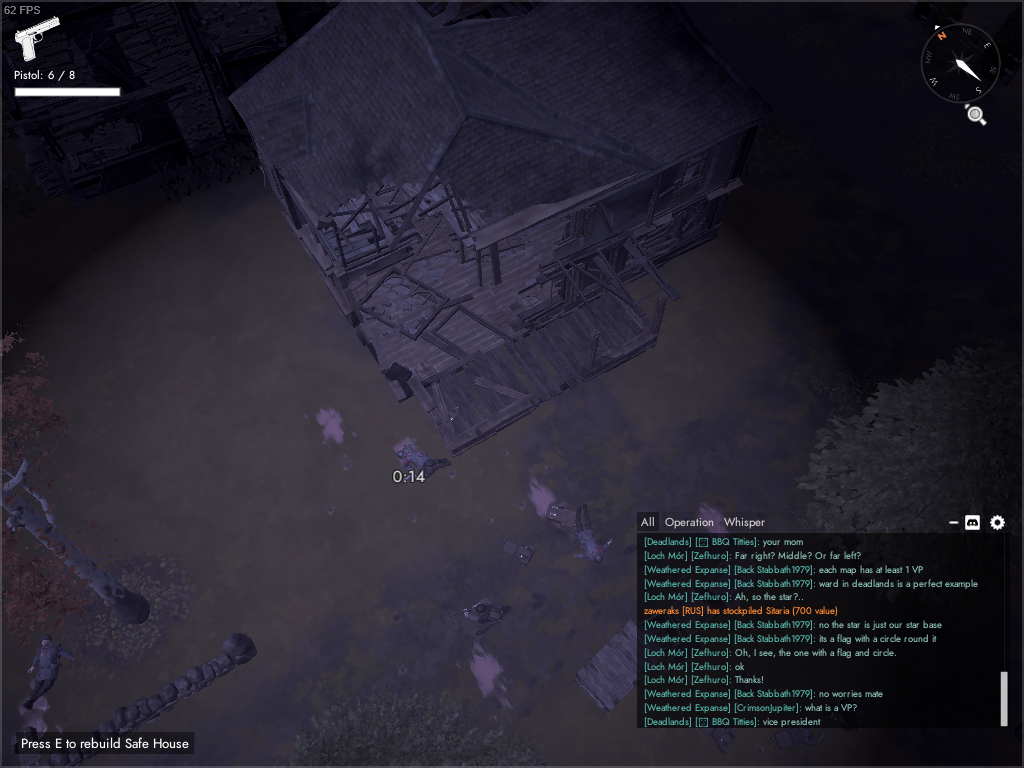backpack: (694, 709, 741, 755), (766, 711, 819, 751), (493, 534, 539, 570), (542, 497, 583, 532)
colonial: (451, 593, 510, 638)
dead_player: (18, 632, 79, 712), (562, 500, 616, 565), (391, 441, 453, 483)
